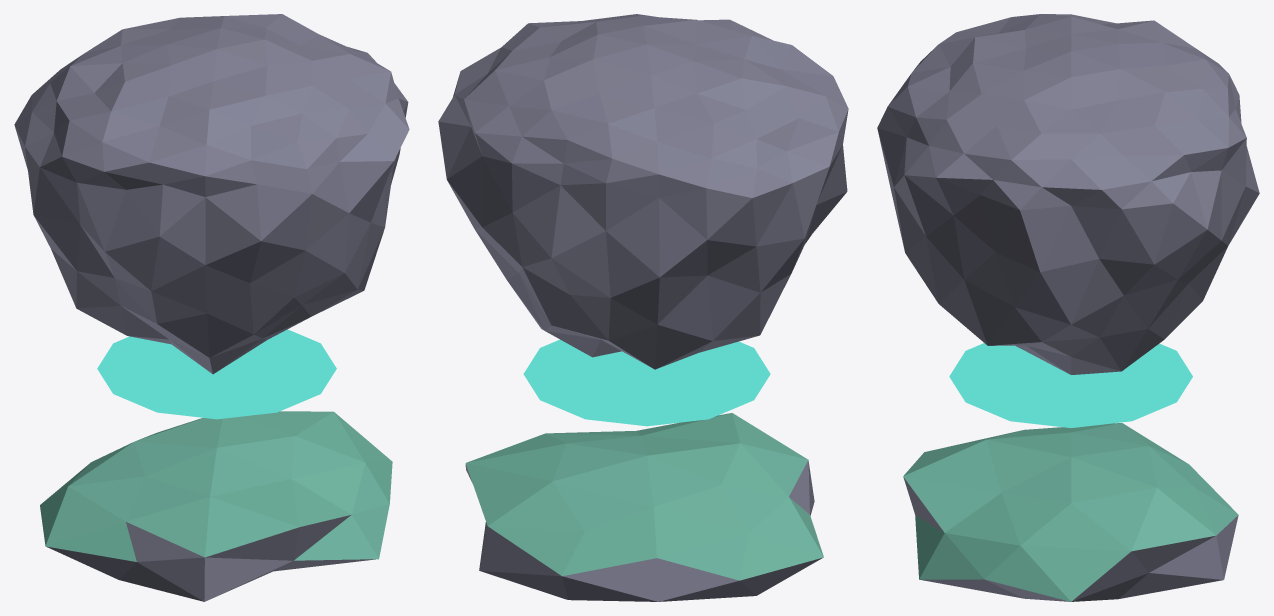
File: ET_Rock_FloatingStone.obj
3 renders of one model, left to right at view 1: azimuth 30°, elevation 25°; view 2: azimuth 150°, elevation 25°; view 3: azimuth 270°, elevation 25°, orthographic. The views are drawn at different scales.
Parts seen in each view (by area): view 1: ET_Rock_FloatingStone; view 2: ET_Rock_FloatingStone; view 3: ET_Rock_FloatingStone.
Boxes of the visible parts, box(x1,y1,x2,y2) form: ET_Rock_FloatingStone: box(14, 14, 409, 601); ET_Rock_FloatingStone: box(438, 14, 848, 601); ET_Rock_FloatingStone: box(877, 14, 1259, 601).
Bounding box in the file's own units: 5.43 × 7.11 × 5.02.
